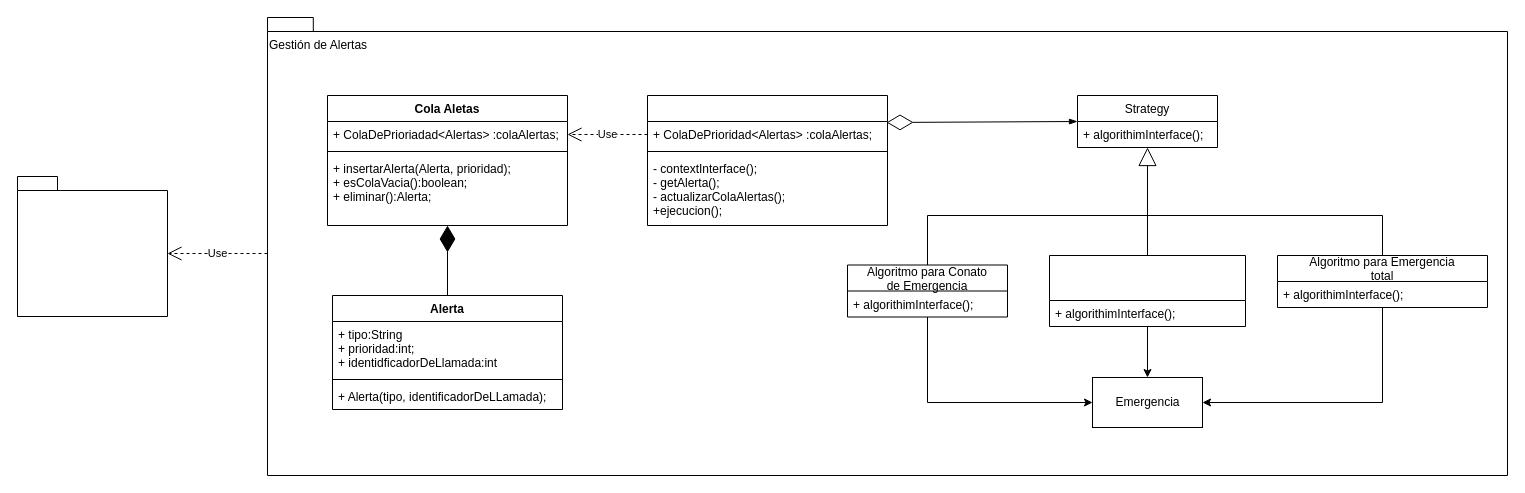
Some shapes in this 1525 by 493 pixel diagram are drawn without their labels. Each missing label, with the box of its shape:
Algoritmo para Emergencia parcial: (1048, 254, 1246, 326)
Context(Gestión de Alertas): (646, 94, 888, 226)
Gestión de llamadas: (16, 176, 168, 316)
